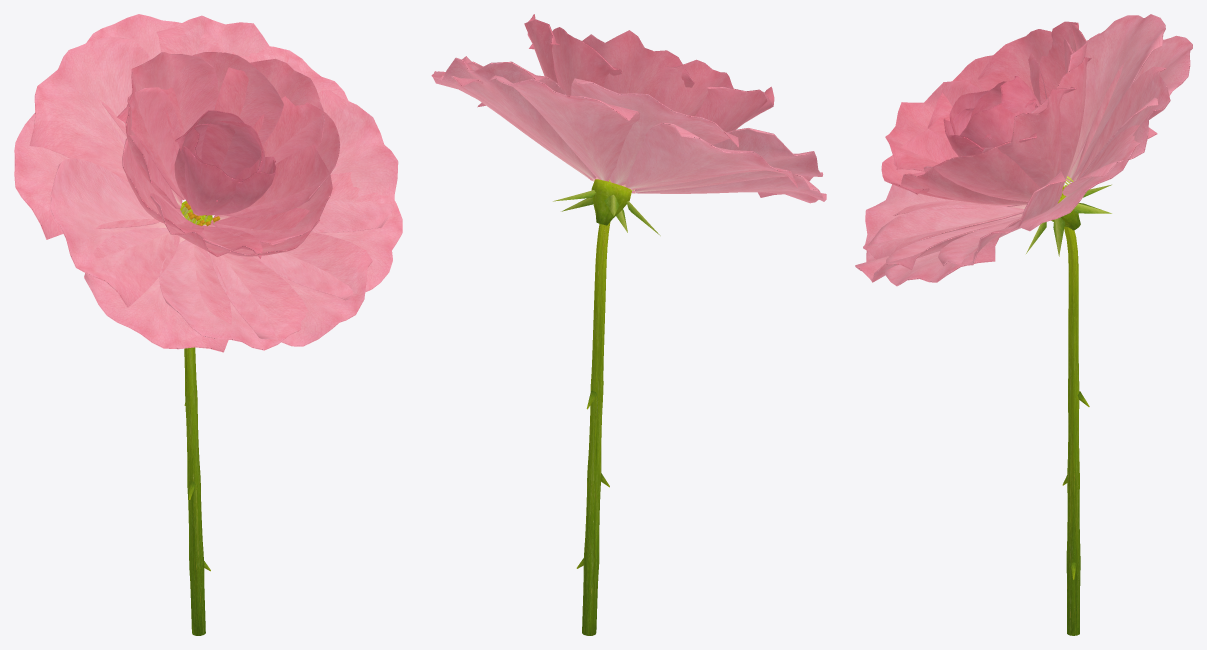
File: rose_25.glb
The picture shows the model from 3 angles, left to right: view 1: azimuth 30°, elevation 25°; view 2: azimuth 150°, elevation 25°; view 3: azimuth 270°, elevation 25°; orthographic projection. The views are drawn at different scales.
Visible parts, largest first — view 1: Petal_1_outer_03, Petal_3_outer_04, Petal_5_outer_04, Petal_6_outer_02, Petal_4_outer_01, Petal_8_outer_02, Petal_7_outer_03, Petal_17_middle_03, Petal_13_middle_02, Petal_15_middle_03, Stem_Skinned, Petal_2_outer_01 (+14 smaller); view 2: Petal_0_outer_01, Stem_Skinned, Petal_2_outer_01, Petal_10_outer_02, Petal_1_outer_03, Petal_17_middle_03, Petal_3_outer_04, Petal_16_middle_04, Petal_18_middle_02, Petal_4_outer_01, Petal_19_middle_01, Hypanthium_and_five_sepals (+2 smaller); view 3: Petal_1_outer_03, Stem_Skinned, Petal_6_outer_02, Petal_15_middle_03, Petal_14_middle_04, Petal_10_outer_02, Petal_7_outer_03, Petal_11_middle_03, Petal_0_outer_01, Petal_5_outer_04, Petal_18_middle_02, Petal_8_outer_02 (+13 smaller).
Boxes of the visible parts, box(x1,y1,x2,y2) form: Petal_1_outer_03: box(29, 37, 150, 182); Petal_3_outer_04: box(50, 158, 179, 307); Petal_5_outer_04: box(159, 240, 308, 350); Petal_6_outer_02: box(209, 232, 372, 346); Petal_4_outer_01: box(84, 227, 231, 352); Petal_8_outer_02: box(311, 90, 398, 232); Petal_7_outer_03: box(253, 172, 402, 300); Petal_17_middle_03: box(117, 52, 218, 199); Petal_13_middle_02: box(211, 144, 332, 245); Petal_15_middle_03: box(214, 58, 324, 164); Stem_Skinned: box(184, 212, 210, 635); Petal_2_outer_01: box(14, 113, 159, 239); Petal_0_outer_01: box(489, 75, 640, 181); Stem_Skinned: box(576, 222, 610, 635); Petal_2_outer_01: box(625, 122, 797, 189); Petal_10_outer_02: box(440, 57, 596, 178); Petal_1_outer_03: box(571, 78, 738, 185); Petal_17_middle_03: box(582, 30, 694, 97); Petal_3_outer_04: box(634, 128, 823, 192); Petal_16_middle_04: box(552, 27, 621, 95); Petal_18_middle_02: box(654, 59, 733, 116); Petal_4_outer_01: box(634, 174, 826, 203); Petal_19_middle_01: box(695, 86, 767, 132); Hypanthium_and_five_sepals: box(553, 179, 660, 235); Petal_1_outer_03: box(1066, 14, 1165, 182); Stem_Skinned: box(1062, 226, 1089, 635); Petal_6_outer_02: box(855, 204, 1024, 282); Petal_15_middle_03: box(982, 87, 1076, 187); Petal_14_middle_04: box(923, 132, 1040, 201); Petal_10_outer_02: box(1062, 66, 1170, 195); Petal_7_outer_03: box(885, 216, 1021, 286); Petal_11_middle_03: box(885, 80, 981, 171); Petal_0_outer_01: box(1073, 35, 1192, 181); Petal_5_outer_04: box(863, 184, 1026, 259); Petal_18_middle_02: box(978, 29, 1074, 93); Petal_8_outer_02: box(938, 169, 1065, 265).
Bounding box in the file's own units: 0.1988 × 0.3308 × 0.1713.
Materials: 7 (7 with a texture image).
